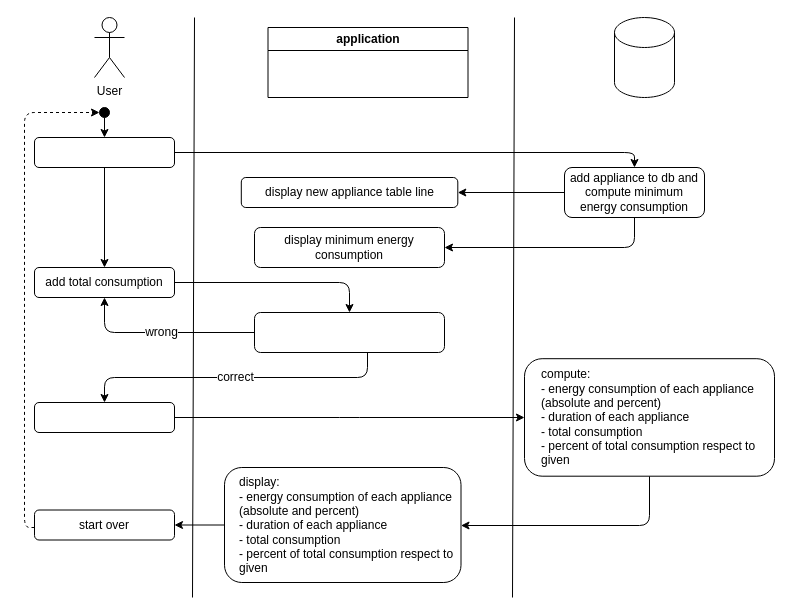
Some shapes in this 792 by 616 pixel diagram are drawn without their labels. The box of each missing label's shape, as (x1, y1, x2, y2) in pixels:
add appliance: (34, 136, 174, 168)
backend: (614, 16, 674, 98)
check correctness of inputed consumption: (254, 312, 444, 352)
launch optimisation: (34, 402, 174, 432)
